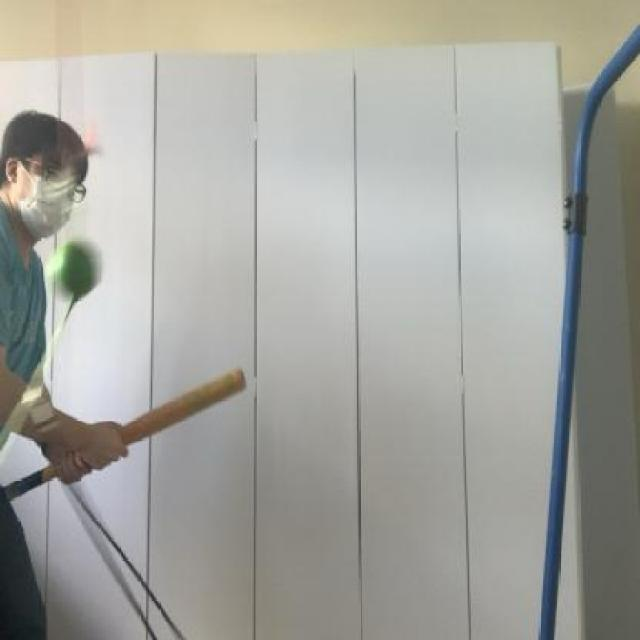baseball: (46, 228, 109, 308)
